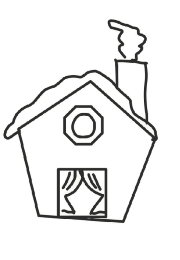door: (54, 159, 114, 226)
roof: (3, 68, 162, 148)
smoking_chimney: (105, 12, 165, 125)
wall: (17, 113, 159, 227)
